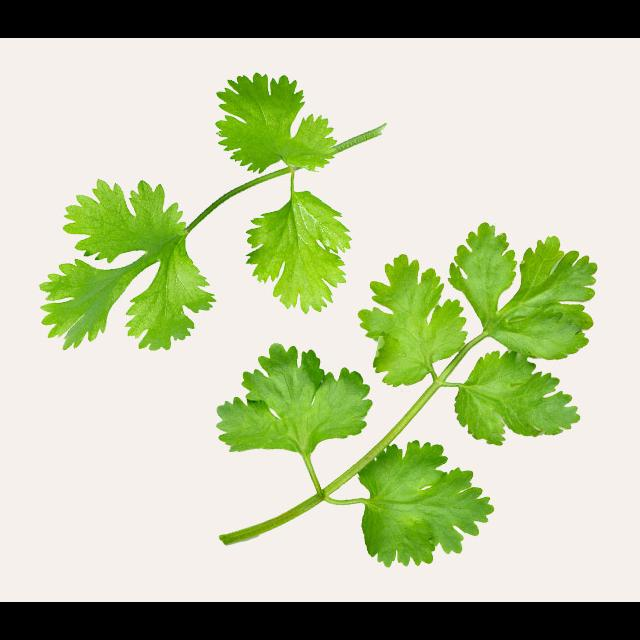cilantro: (216, 224, 597, 567), (30, 74, 385, 364)
